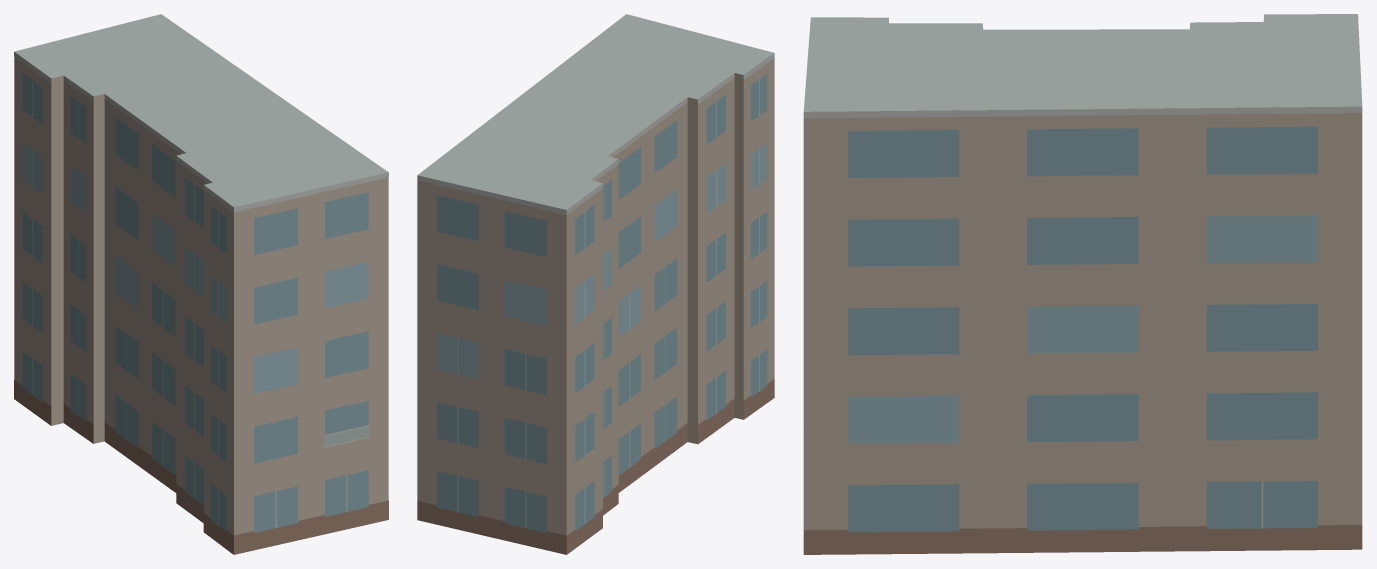
The model's file is survey-upis-32782779.glb.
The picture shows the model from 3 angles, left to right: view 1: azimuth 30°, elevation 25°; view 2: azimuth 150°, elevation 25°; view 3: azimuth 270°, elevation 25°; orthographic projection. The views are drawn at different scales.
Visible parts, largest first — view 1: survey-upis-32782779.tmp; view 2: survey-upis-32782779.tmp; view 3: survey-upis-32782779.tmp.
Boxes of the visible parts, x1,y1,x2,y2 form: survey-upis-32782779.tmp: (14, 14, 388, 554); survey-upis-32782779.tmp: (417, 14, 774, 554); survey-upis-32782779.tmp: (803, 14, 1362, 554).
Size of the model in its own units: 8.02 by 16.9 by 19.33.
